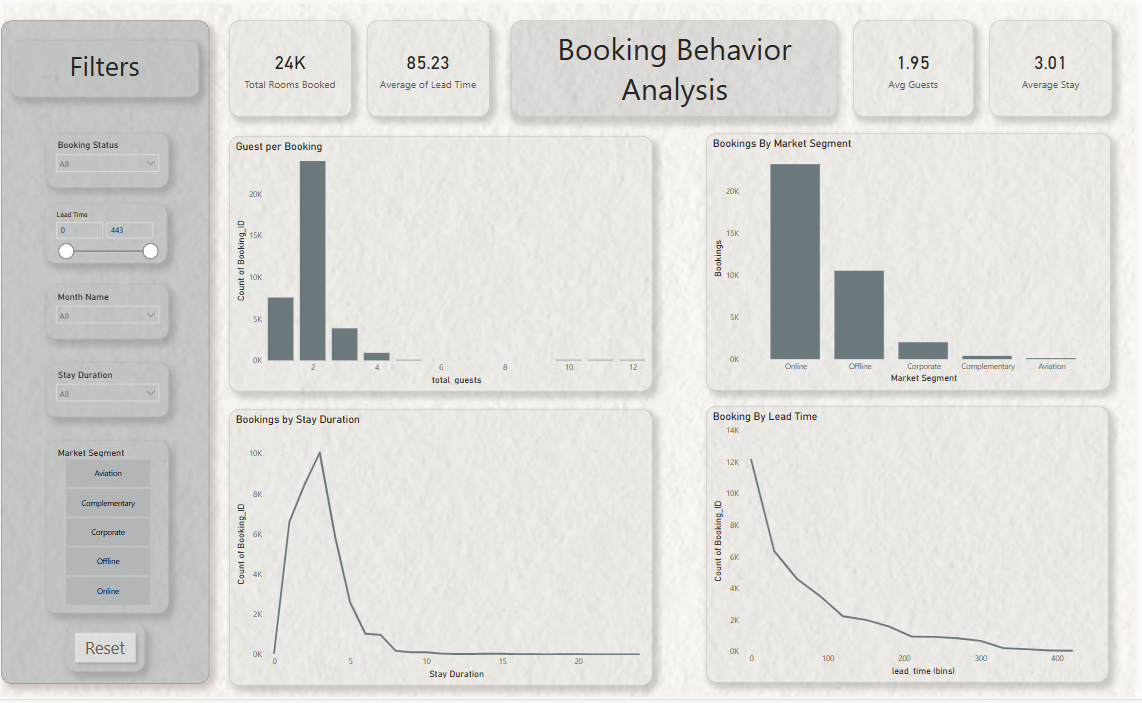

The page's visual inventory and layout, read from the dashboard file:
{"tool":"powerbi","page":{"name":"Page 4","canvas":[1800,1100],"ordinal":3},"visuals":[{"type":"textbox","box":[808.3,25,519.4,152.8],"z":0},{"type":"card","fields":{"Values":["Hotel Reservations.Avg Guests"]},"box":[1352.8,25,191.7,152.8],"z":1000},{"type":"lineChart","title":"Bookings by Stay Duration","fields":{"Category":["Hotel Reservations.Stay Duration"],"Y":["CountNonNull(Hotel Reservations.Booking_ID)"]},"box":[361.1,641.7,672.2,438.9],"z":2000},{"type":"clusteredColumnChart","title":"Guest per Booking","fields":{"Y":["CountNonNull(Hotel Reservations.Booking_ID)"],"Category":["Hotel Reservations.total_guests"]},"box":[361.1,208.3,672.2,405.6],"z":3000},{"type":"lineChart","title":"Booking By Lead Time","fields":{"Category":["Hotel Reservations.lead_time (bins)"],"Y":["CountNonNull(Hotel Reservations.Booking_ID)"]},"box":[1119.4,638.9,638.9,438.9],"z":4000},{"type":"textbox","box":[0,25,330.6,1052.8],"z":5000},{"type":"textbox","box":[14.3,57.1,300,90.5],"z":6000},{"type":"card","fields":{"Values":["Hotel Reservations.Total Rooms Booked"]},"box":[361.1,25,194.4,152.8],"z":7000},{"type":"card","fields":{"Values":["Avg(Hotel Reservations.lead_time)"]},"box":[580.6,25,194.4,152.8],"z":8000},{"type":"card","fields":{"Values":["Hotel Reservations.Average Stay"]},"box":[1569.4,25,194.4,152.8],"z":9000},{"type":"columnChart","title":"Bookings By Market Segment","fields":{"Category":["Hotel Reservations.market_segment_type"],"Y":["CountNonNull(Hotel Reservations.Booking_ID)"]},"box":[1119.4,205.6,641.7,408.3],"z":10000},{"type":"slicer","fields":{"Values":["Hotel Reservations.lead_time"]},"box":[68.4,315.8,194.7,94.7],"z":11000},{"type":"slicer","fields":{"Values":["Hotel Reservations.booking_status"]},"box":[71.1,205.3,194.7,86.8],"z":12000},{"type":"slicer","fields":{"Values":["Hotel Reservations.market_segment_type"]},"box":[71.1,692.1,194.7,273.7],"z":13000},{"type":"slicer","fields":{"Values":["Hotel Reservations.Month Name"]},"box":[71.1,444.7,194.7,86.8],"z":14000},{"type":"actionButton","box":[102.6,984.2,126.3,76.3],"z":15000},{"type":"slicer","fields":{"Values":["Hotel Reservations.Stay Duration"]},"box":[71.1,568.4,194.7,86.8],"z":16000}]}

Visuals, with their boxes in screenshot pixels (x1, y1, x2, y2), scaled from the page's 1800x1100 canvas onto the 1142x703 screenshot:
textbox: <box>513,16,842,114</box>
card - Hotel Reservations.Avg Guests: <box>858,16,980,114</box>
"Bookings by Stay Duration" lineChart: <box>229,410,656,691</box>
"Guest per Booking" clusteredColumnChart: <box>229,133,656,392</box>
"Booking By Lead Time" lineChart: <box>710,408,1116,689</box>
textbox: <box>0,16,210,689</box>
textbox: <box>9,36,199,94</box>
card - Hotel Reservations.Total Rooms Booked: <box>229,16,352,114</box>
card - Avg(Hotel Reservations.lead_time): <box>368,16,492,114</box>
card - Hotel Reservations.Average Stay: <box>996,16,1119,114</box>
"Bookings By Market Segment" columnChart: <box>710,131,1117,392</box>
slicer - Hotel Reservations.lead_time: <box>43,202,167,262</box>
slicer - Hotel Reservations.booking_status: <box>45,131,169,187</box>
slicer - Hotel Reservations.market_segment_type: <box>45,442,169,617</box>
slicer - Hotel Reservations.Month Name: <box>45,284,169,340</box>
actionButton: <box>65,629,145,678</box>
slicer - Hotel Reservations.Stay Duration: <box>45,363,169,419</box>
